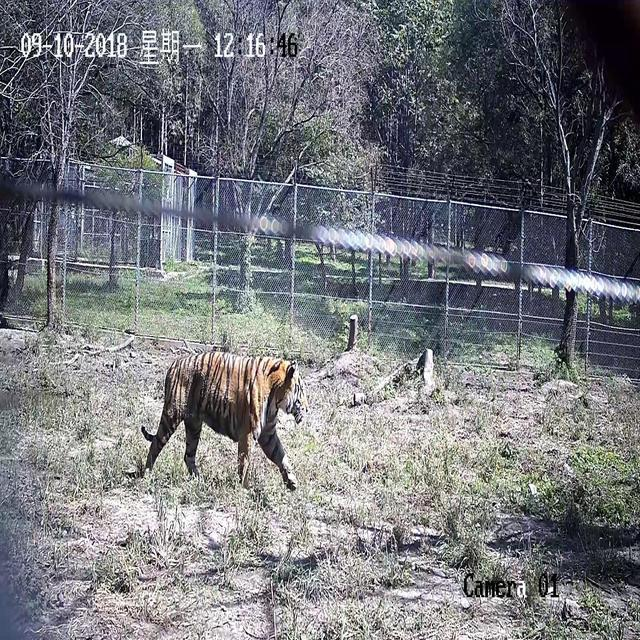tiger: (140, 349, 307, 491)
